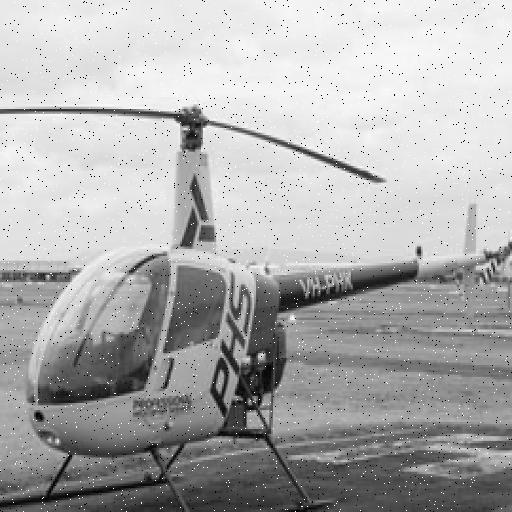helicopter: (1, 100, 512, 512)
